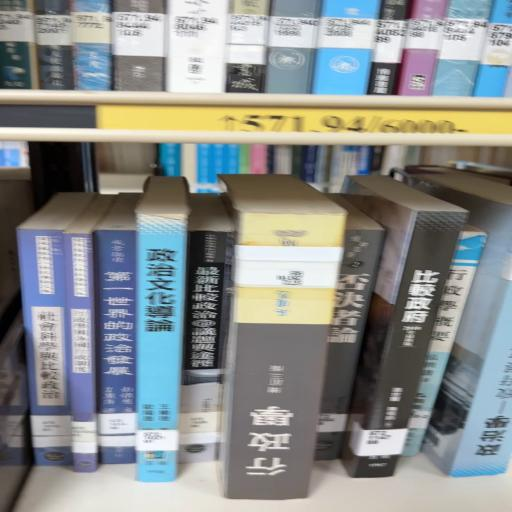reverse: (220, 176, 347, 501)
